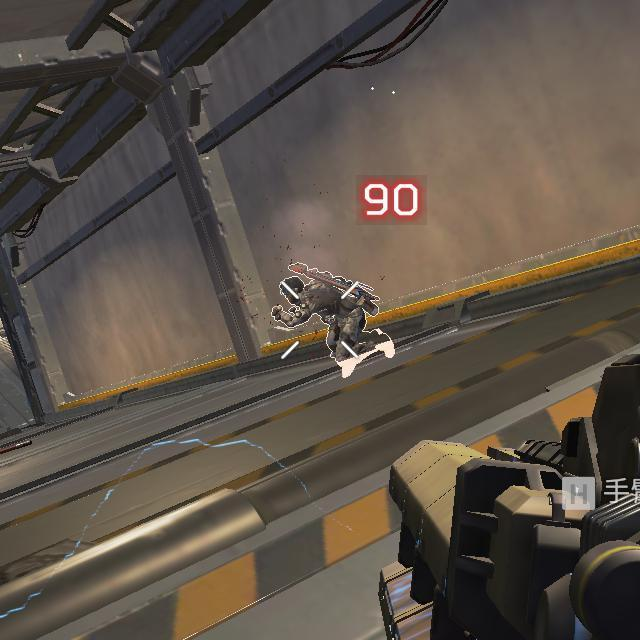avatar: (277, 273, 393, 364)
